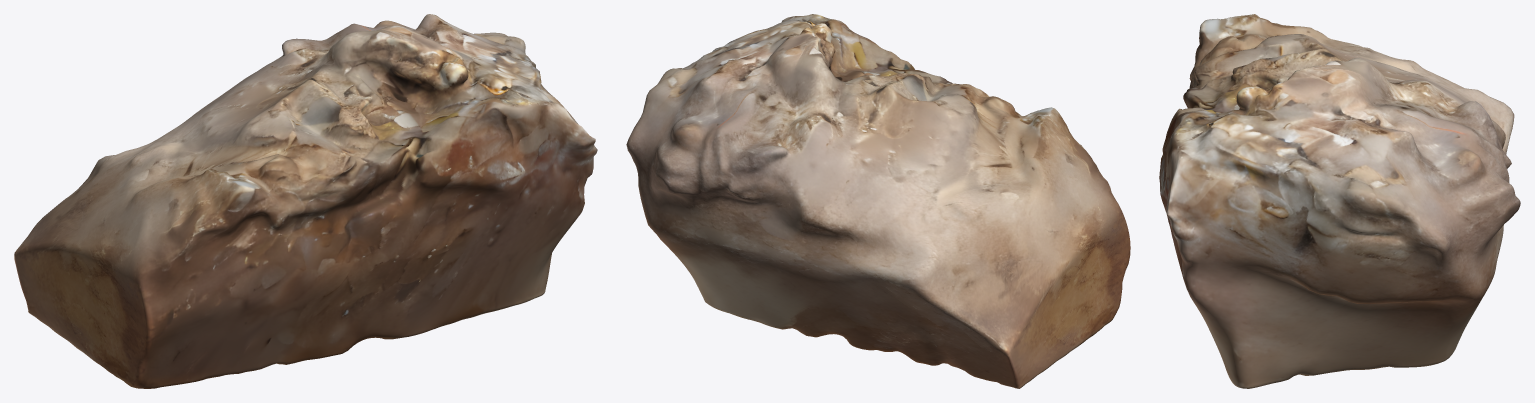
3 renders of one model, left to right at view 1: azimuth 30°, elevation 25°; view 2: azimuth 150°, elevation 25°; view 3: azimuth 270°, elevation 25°, orthographic. The views are drawn at different scales.
Visible parts, largest first — view 1: model; view 2: model; view 3: model.
Boxes of the visible parts, x1,y1,x2,y2 form: model: (14, 14, 597, 388); model: (626, 14, 1130, 388); model: (1159, 14, 1520, 388).
Bounding box in the file's own units: 1.76 × 0.9581 × 1.18.
Materials: 1 (1 with a texture image).
